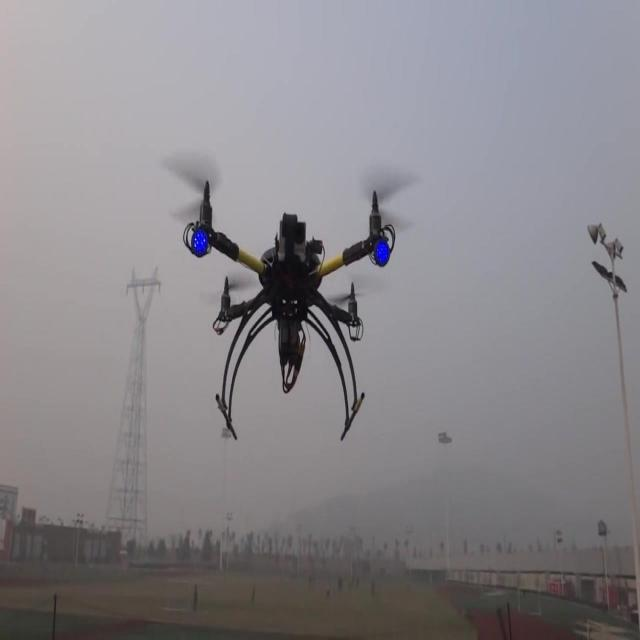UAV: (162, 156, 419, 440)
